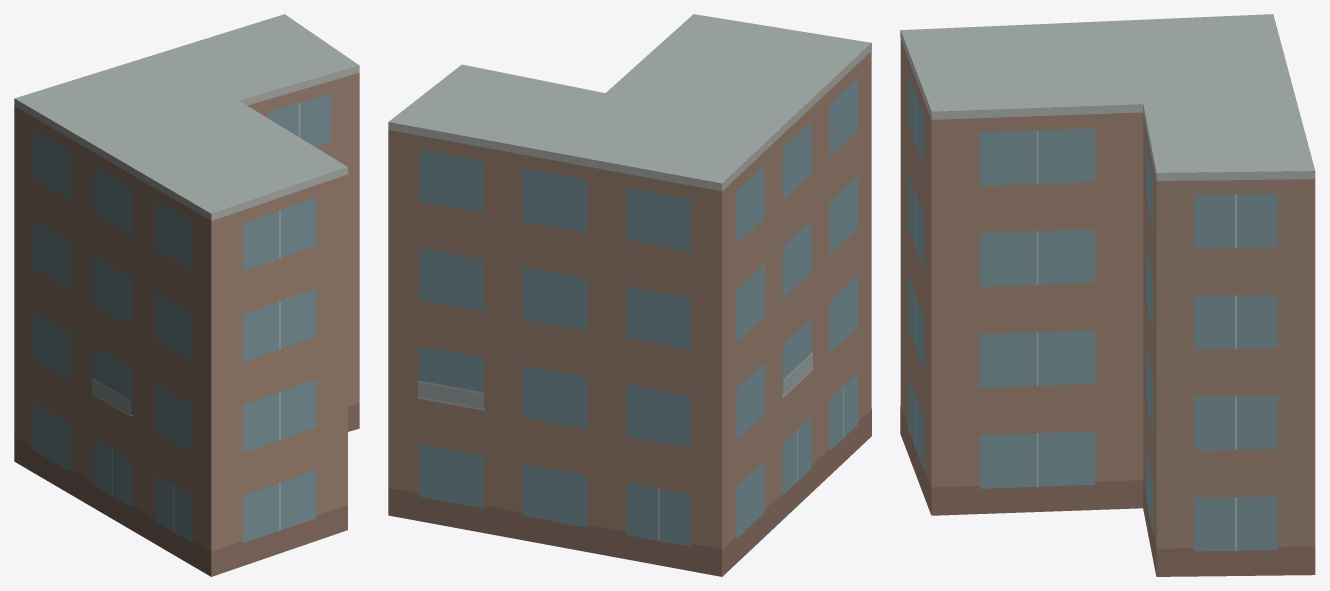
Rendered from survey-upis-32474997.glb.
3 renders of one model, left to right at view 1: azimuth 30°, elevation 25°; view 2: azimuth 150°, elevation 25°; view 3: azimuth 270°, elevation 25°, orthographic. The views are drawn at different scales.
Parts seen in each view (by area): view 1: survey-upis-32474997.tmp; view 2: survey-upis-32474997.tmp; view 3: survey-upis-32474997.tmp.
Part boxes in pixels (left/top/right/bottom): survey-upis-32474997.tmp: left=14, top=14, right=359, bottom=576; survey-upis-32474997.tmp: left=388, top=14, right=871, bottom=576; survey-upis-32474997.tmp: left=900, top=14, right=1315, bottom=576.
Bounding box in the file's own units: 10.22 × 12.1 × 11.27.
